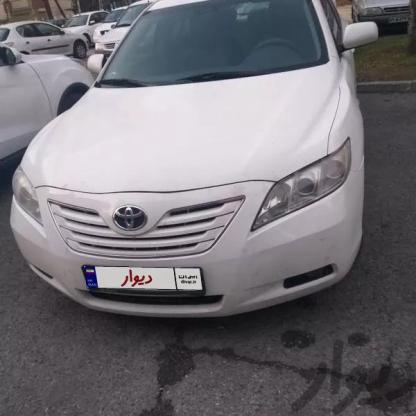Car: (11, 0, 389, 318), (0, 44, 99, 220), (0, 15, 101, 68), (351, 0, 416, 36)
